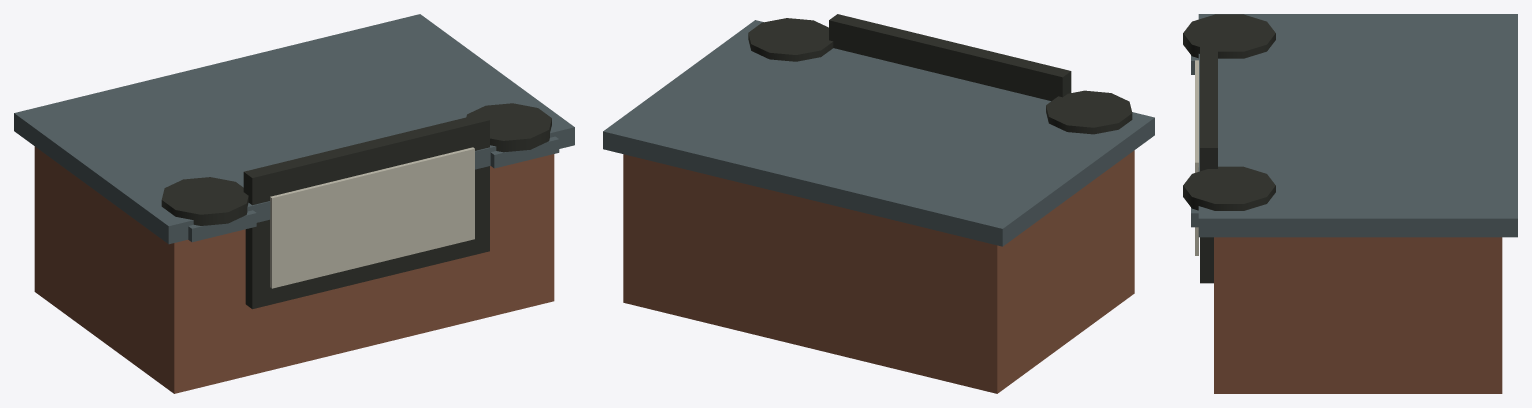
File: custom-wonder-sinema.glb
The picture shows the model from 3 angles, left to right: view 1: azimuth 30°, elevation 25°; view 2: azimuth 150°, elevation 25°; view 3: azimuth 270°, elevation 25°; orthographic projection. The views are drawn at different scales.
Visible parts, largest first — view 1: custom-wonder-sinema; view 2: custom-wonder-sinema; view 3: custom-wonder-sinema.
Part boxes in pixels (box(x1,y1,x2,y2)): custom-wonder-sinema: box(14, 14, 574, 393); custom-wonder-sinema: box(603, 14, 1154, 393); custom-wonder-sinema: box(1183, 14, 1517, 393).
Bounding box in the file's own units: 1 × 0.4787 × 0.6915.
